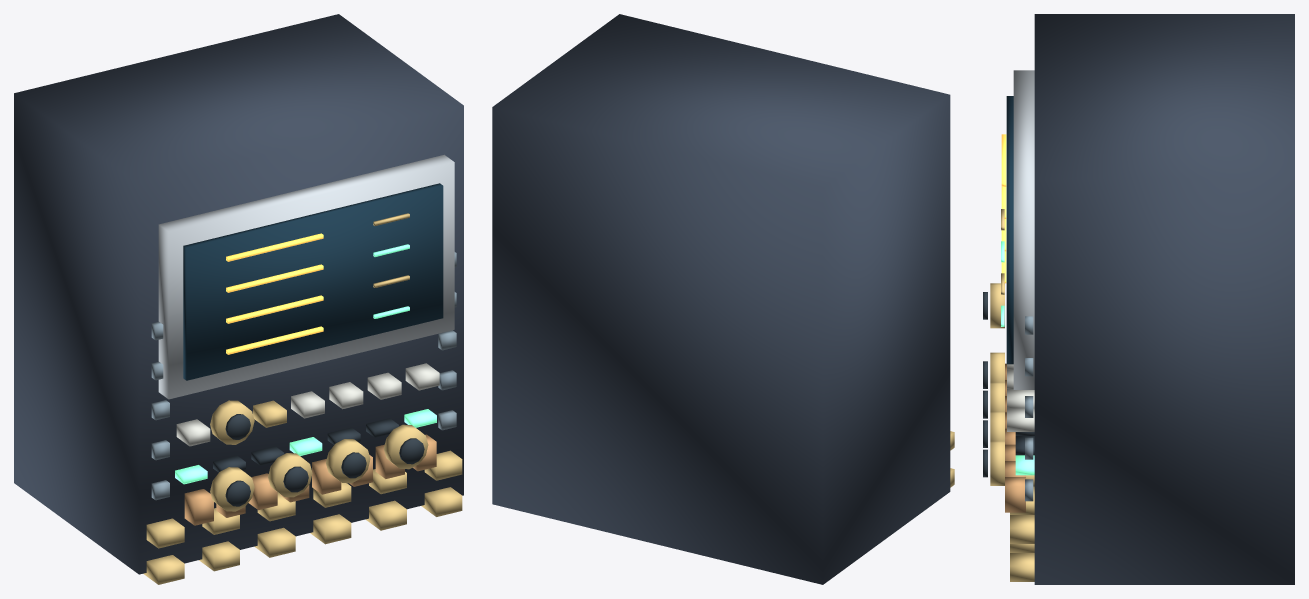
Rendered from 82_L92_SamplingSafetyPLC.glb.
3 renders of one model, left to right at view 1: azimuth 30°, elevation 25°; view 2: azimuth 150°, elevation 25°; view 3: azimuth 270°, elevation 25°, orthographic. The views are drawn at different scales.
Parts seen in each view (by area): view 1: L92_SamplingSafetyPLC, L92_SamplingSafetyPLC_Part_0012, L92_SamplingSafetyPLC_Part_0014, L92_SamplingSafetyPLC_Part_0016, L92_SamplingSafetyPLC_Part_0020, L92_SamplingSafetyPLC_Part_0018; view 2: L92_SamplingSafetyPLC; view 3: L92_SamplingSafetyPLC, L92_SamplingSafetyPLC_Part_0018, L92_SamplingSafetyPLC_Part_0020, L92_SamplingSafetyPLC_Part_0012, L92_SamplingSafetyPLC_Part_0014, L92_SamplingSafetyPLC_Part_0016.
Boxes of the visible parts, x1=… form: L92_SamplingSafetyPLC: x1=14, y1=14, x2=463, y2=584; L92_SamplingSafetyPLC_Part_0012: x1=210, y1=467, x2=254, y2=511; L92_SamplingSafetyPLC_Part_0014: x1=268, y1=453, x2=312, y2=497; L92_SamplingSafetyPLC_Part_0016: x1=326, y1=439, x2=370, y2=483; L92_SamplingSafetyPLC_Part_0020: x1=210, y1=400, x2=254, y2=444; L92_SamplingSafetyPLC_Part_0018: x1=384, y1=424, x2=428, y2=469; L92_SamplingSafetyPLC: x1=492, y1=14, x2=954, y2=584; L92_SamplingSafetyPLC: x1=1001, y1=14, x2=1294, y2=584; L92_SamplingSafetyPLC_Part_0018: x1=990, y1=441, x2=1004, y2=485; L92_SamplingSafetyPLC_Part_0020: x1=990, y1=283, x2=1004, y2=328; L92_SamplingSafetyPLC_Part_0012: x1=990, y1=352, x2=1004, y2=381; L92_SamplingSafetyPLC_Part_0014: x1=990, y1=382, x2=1004, y2=411; L92_SamplingSafetyPLC_Part_0016: x1=990, y1=411, x2=1004, y2=440.
Size of the model in its own units: 1.12 by 1.3 by 0.896.
